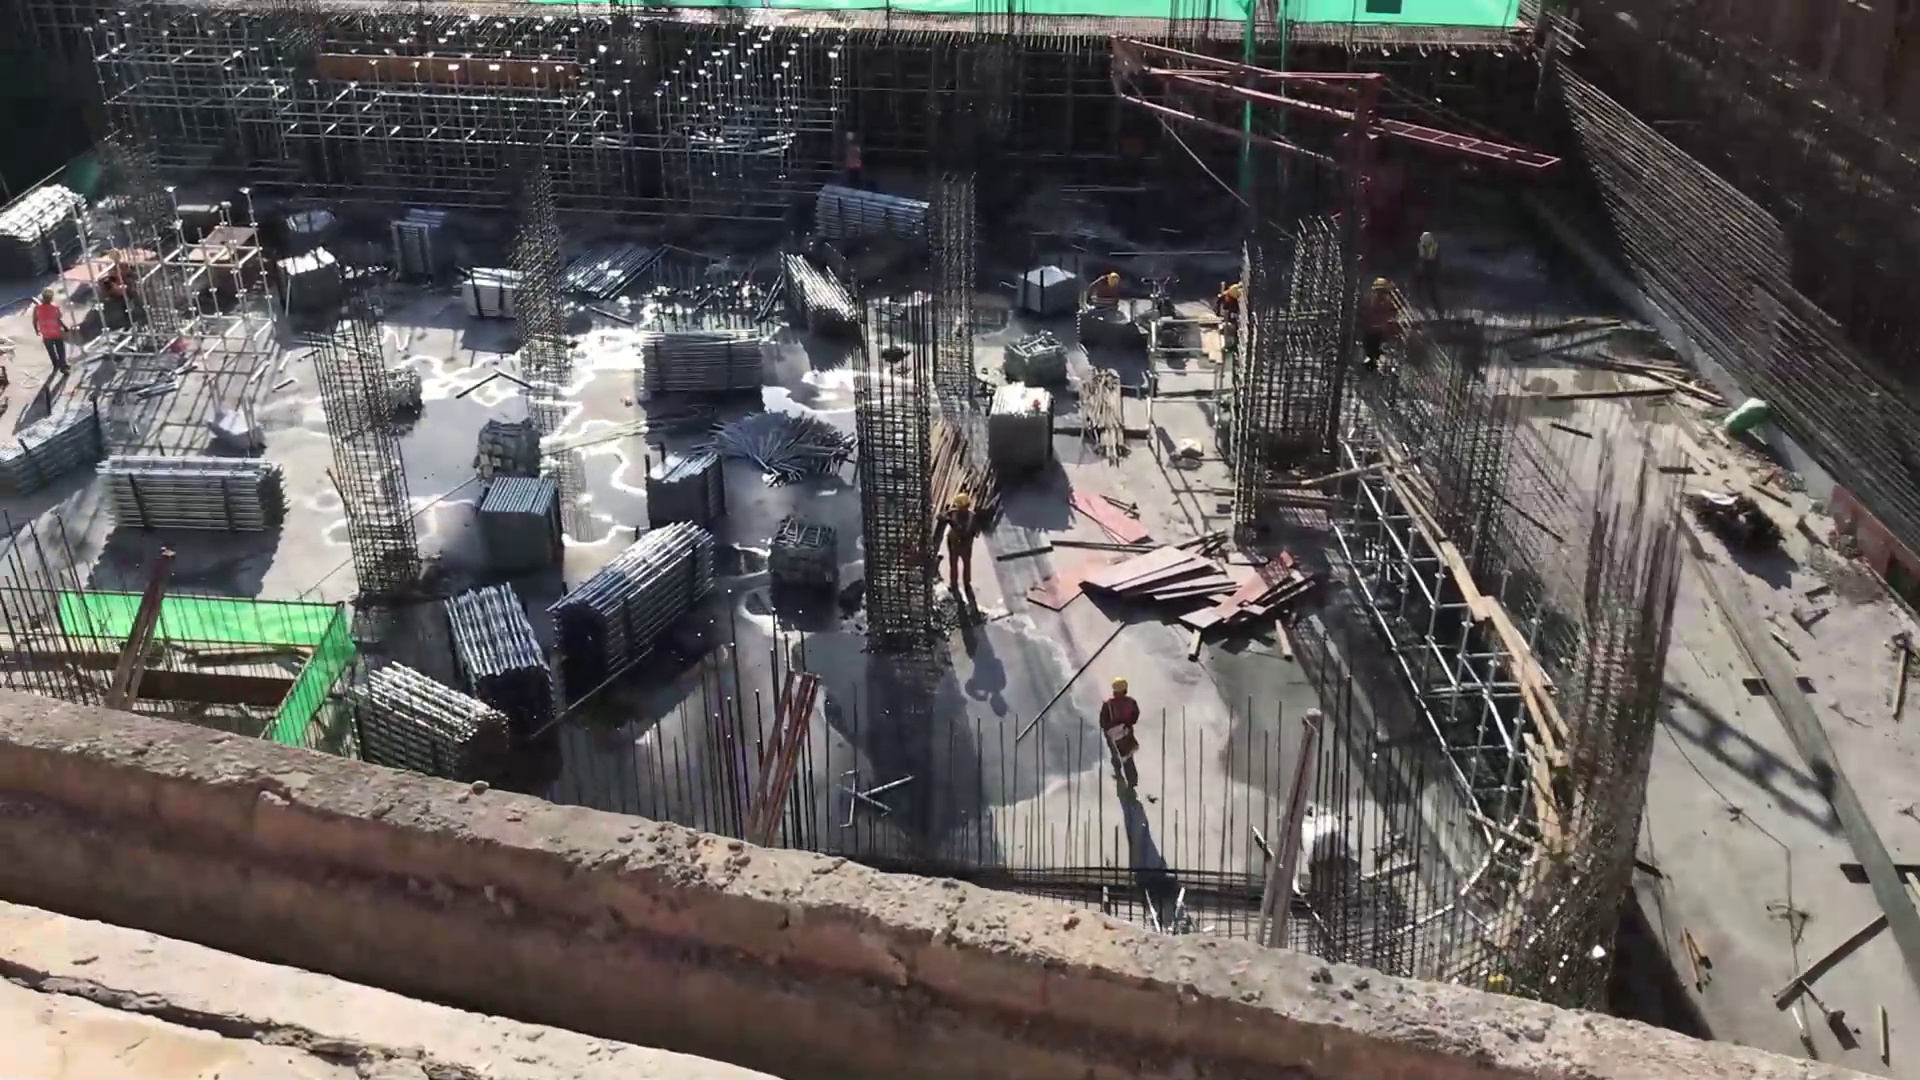board: (1081, 538, 1315, 657)
helmet: (948, 491, 974, 517), (1223, 276, 1245, 302), (1105, 269, 1126, 294), (1105, 678, 1130, 698), (1372, 274, 1392, 294), (36, 288, 54, 303), (1419, 227, 1435, 245)
person: (1086, 680, 1158, 819), (934, 488, 994, 628), (21, 287, 70, 383), (1360, 267, 1399, 378), (1412, 217, 1449, 329), (838, 119, 872, 198), (1082, 264, 1119, 332)
scaffold: (554, 521, 727, 676), (334, 658, 516, 789), (98, 452, 292, 541), (445, 572, 549, 710), (797, 181, 957, 263), (1, 399, 122, 505), (1, 171, 97, 300), (478, 471, 573, 583), (634, 327, 760, 407), (644, 452, 730, 527), (389, 208, 467, 286)
vest: (1107, 698, 1138, 753), (32, 302, 64, 347), (943, 513, 975, 559), (1416, 242, 1436, 270)
